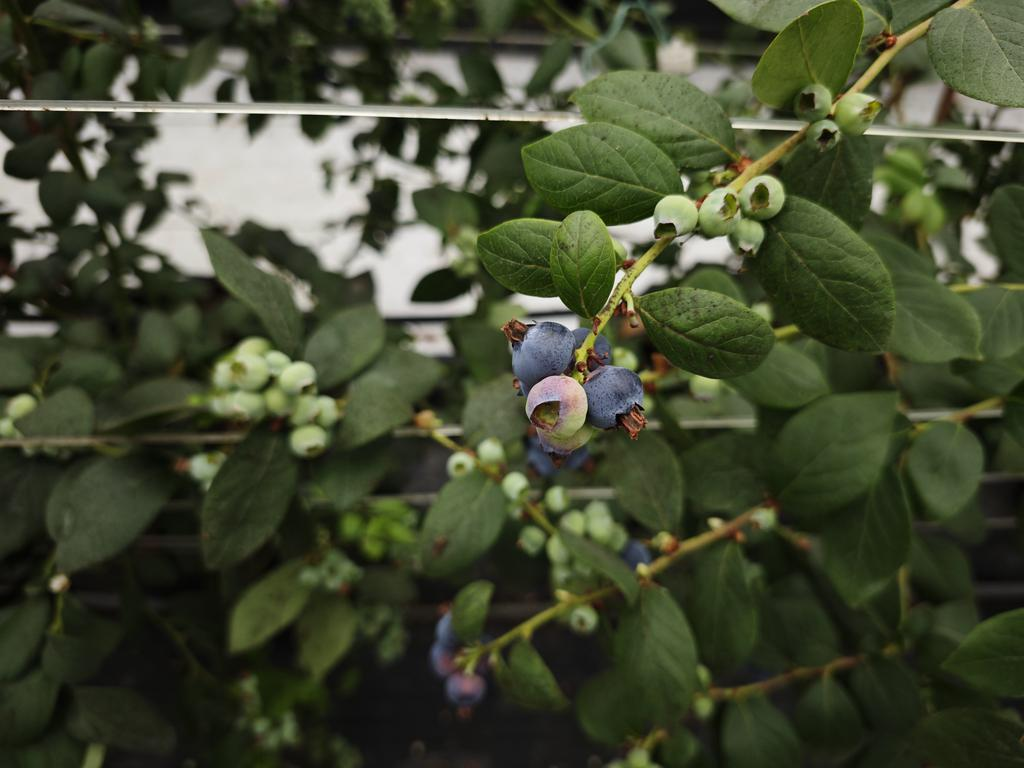RipeBlueBerry: (505, 315, 579, 385), (587, 365, 651, 437)
Semi-RipeBlueBerry: (524, 372, 590, 443)
